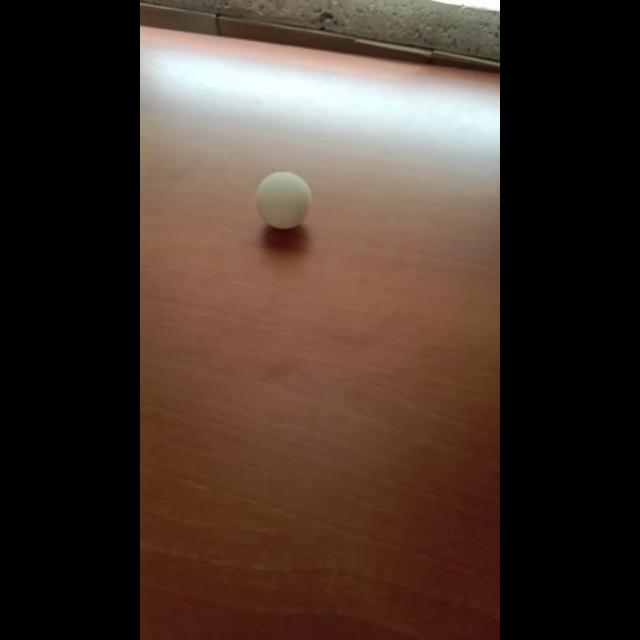white ball: (255, 170, 312, 230)
